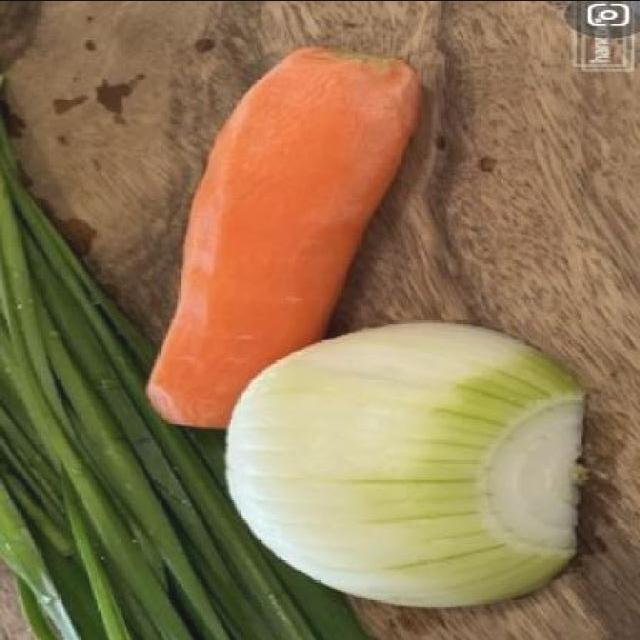carrot: (137, 49, 449, 437)
onion: (216, 320, 593, 616)
